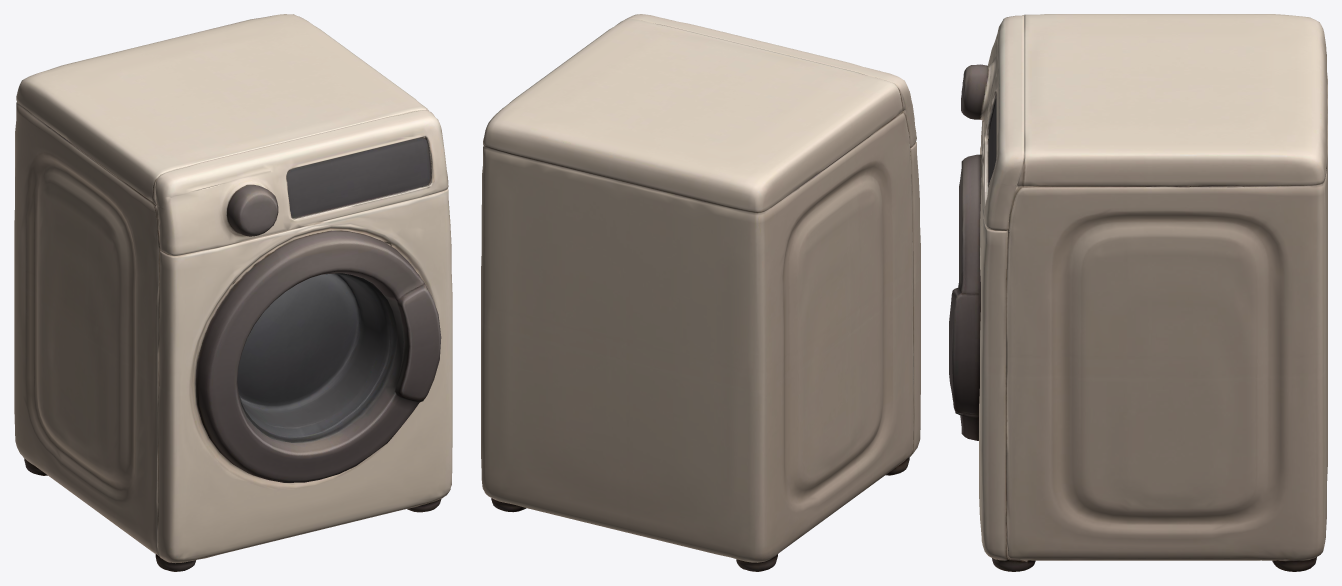
Rendered from washer-stylized-v2.glb.
3 renders of one model, left to right at view 1: azimuth 30°, elevation 25°; view 2: azimuth 150°, elevation 25°; view 3: azimuth 270°, elevation 25°, orthographic. The views are drawn at different scales.
Parts seen in each view (by area): view 1: washer-stylized-v2; view 2: washer-stylized-v2; view 3: washer-stylized-v2.
Boxes of the visible parts, bbox=[...] form: washer-stylized-v2: bbox=[14, 14, 452, 571]; washer-stylized-v2: bbox=[481, 14, 920, 571]; washer-stylized-v2: bbox=[949, 14, 1327, 571].
Size of the model in its own units: 0.667 by 0.85 by 0.6936.
1 material, 1 textured.
